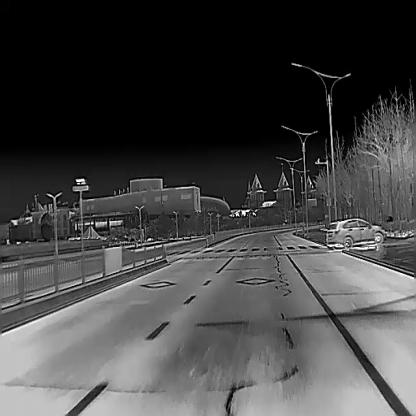car: (326, 216, 384, 249)
